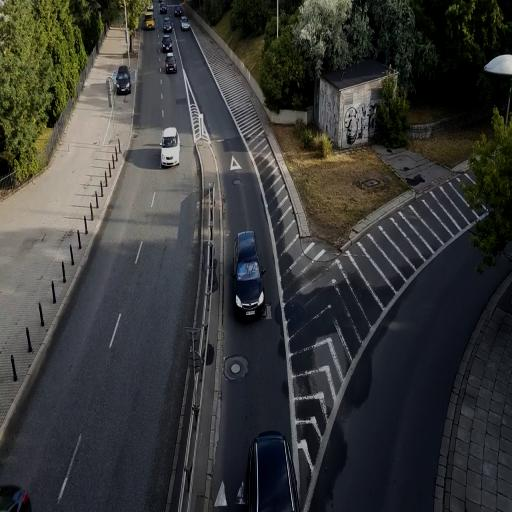vehicle: (243, 430, 299, 512), (161, 126, 181, 168), (114, 66, 132, 95), (164, 50, 176, 74)
